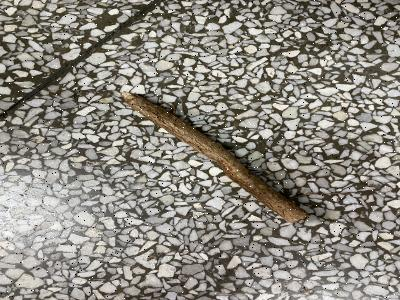Root: (121, 91, 308, 223)
